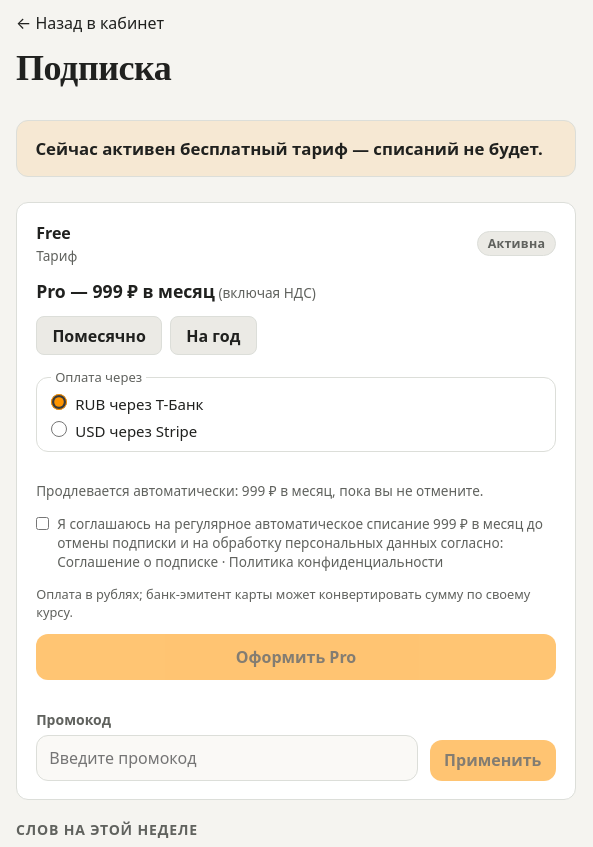
Test: BillingDashboard › localizes exhausted promo code errors in Russian billing
Expected: the heading "Подписка" is shown, [16,48,171,88]
Type "USED-CODE" into the field with placeholder "Введите промокод" at (227, 758), box [36,735,418,781]
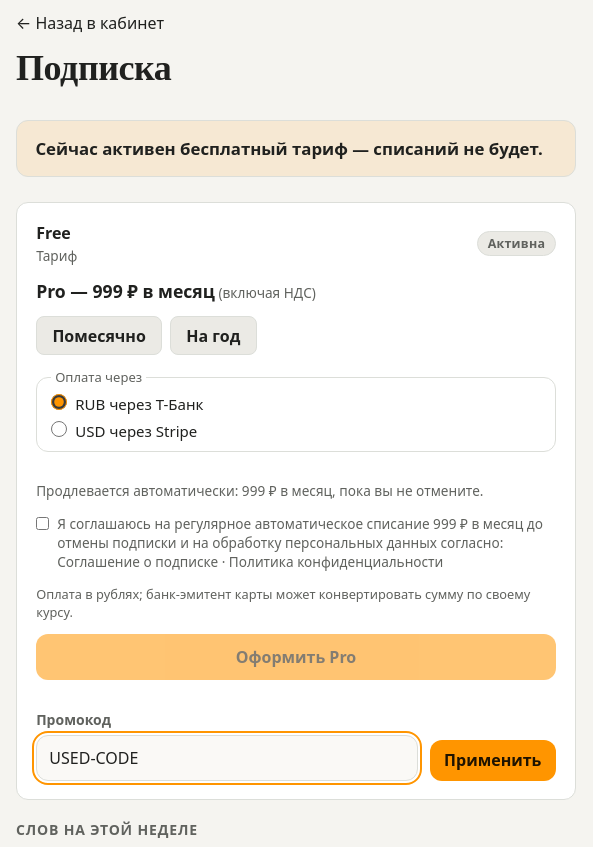
Click the button "Применить" at (493, 760), box [430,740,556,781]
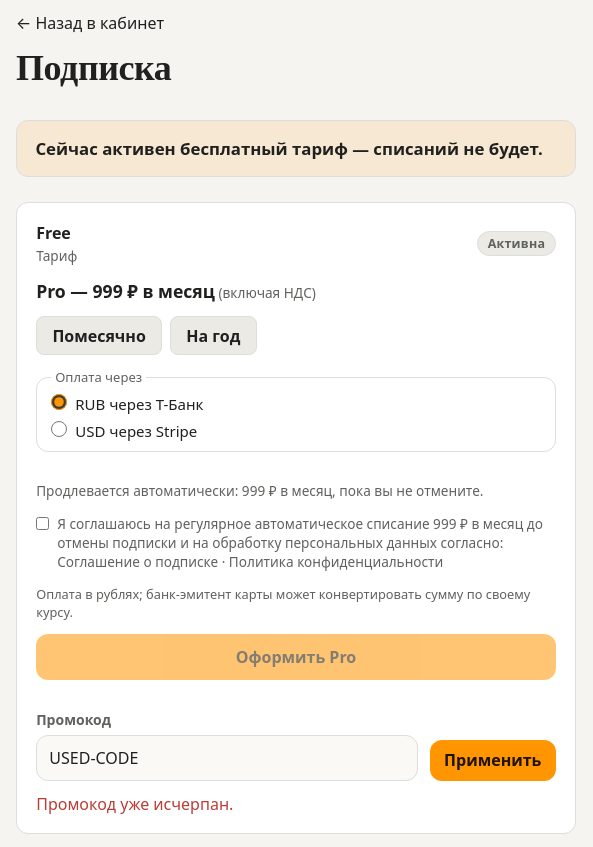
Result: the text "Промокод уже исчерпан." is shown at [36,793,233,815]
